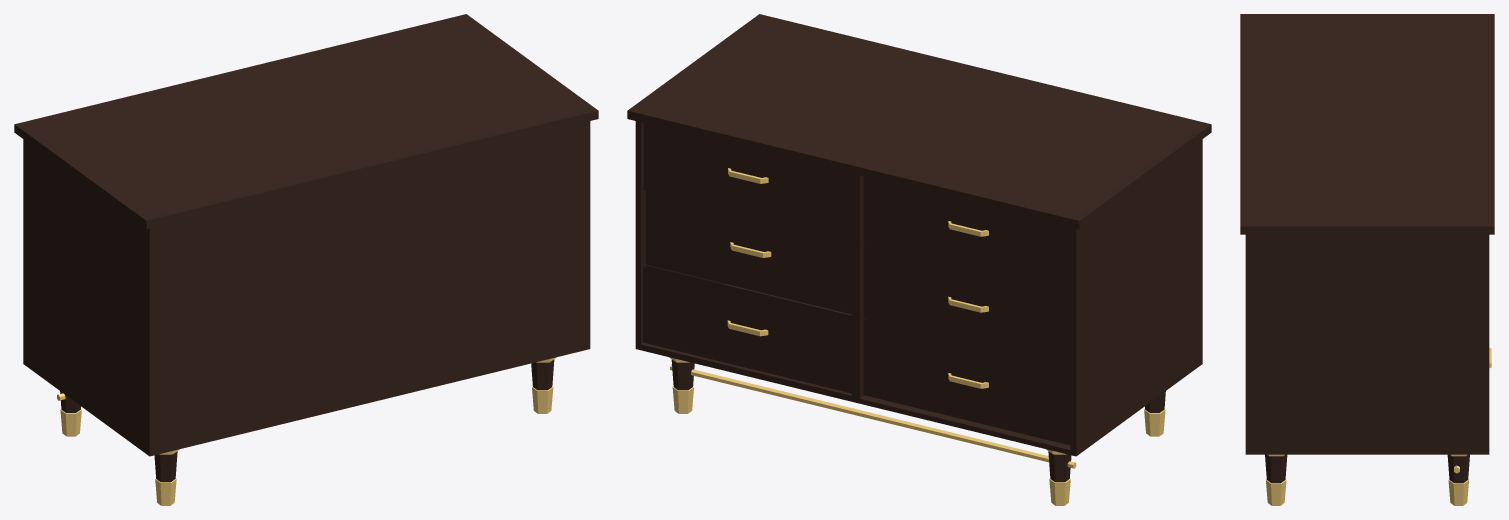
Rendered from комод средний спальня.fbx.
The picture shows the model from 3 angles, left to right: view 1: azimuth 30°, elevation 25°; view 2: azimuth 150°, elevation 25°; view 3: azimuth 270°, elevation 25°; orthographic projection. The views are drawn at different scales.
Visible parts, largest first — view 1: Cube.068; view 2: Cube.068; view 3: Cube.068.
Boxes of the visible parts, x1,y1,x2,y2 form: Cube.068: (14, 14, 598, 505); Cube.068: (627, 14, 1211, 505); Cube.068: (1240, 14, 1494, 505).
Bounding box in the file's own units: 1657 × 1069 × 838.
